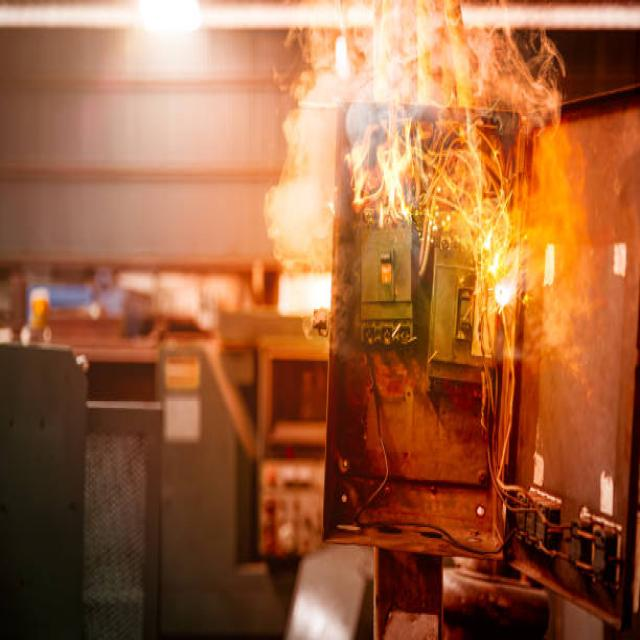fire: (334, 46, 558, 330)
